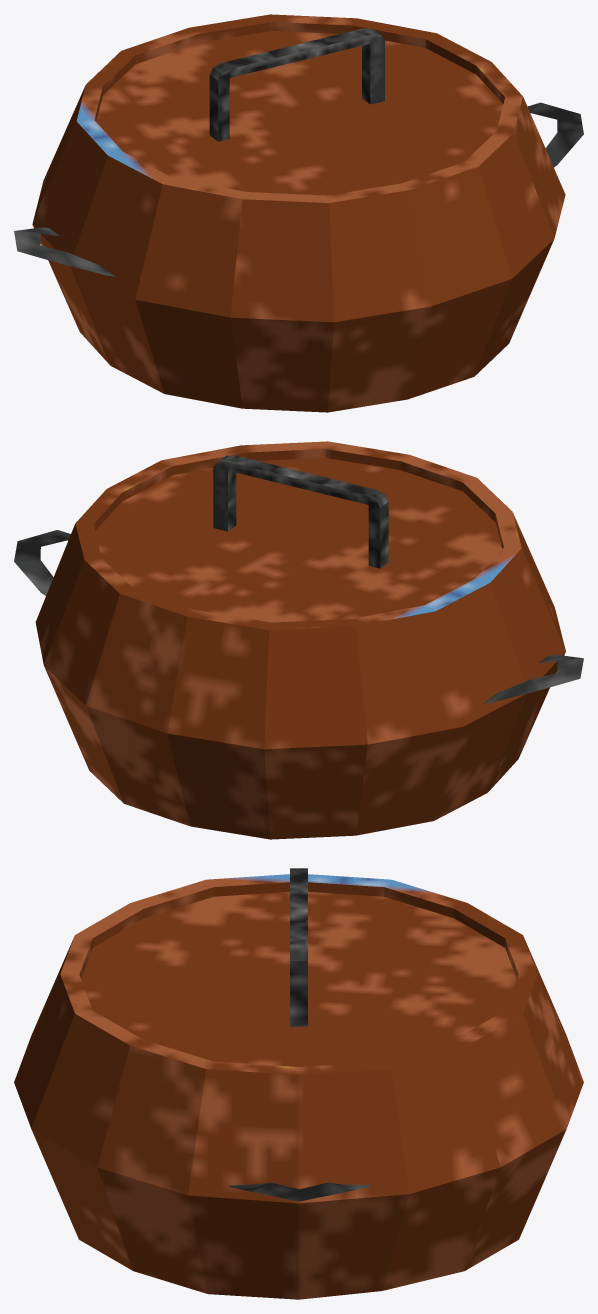
Rendered from SM_Dungeon_Pot_Round.fbx.
3 views of the same model, one above another, from view 1: azimuth 30°, elevation 25°; view 2: azimuth 150°, elevation 25°; view 3: azimuth 270°, elevation 25° (orthographic). The views are drawn at different scales.
Visible parts, largest first — view 1: SM_Dungeon_Pot_Big.001; view 2: SM_Dungeon_Pot_Big.001; view 3: SM_Dungeon_Pot_Big.001.
Boxes of the visible parts, left/top/right/bottom form: SM_Dungeon_Pot_Big.001: left=14, top=14, right=583, bottom=412; SM_Dungeon_Pot_Big.001: left=14, top=441, right=583, bottom=839; SM_Dungeon_Pot_Big.001: left=14, top=868, right=583, bottom=1299.
Bounding box in the file's own units: 70.32 × 32.45 × 57.23.
